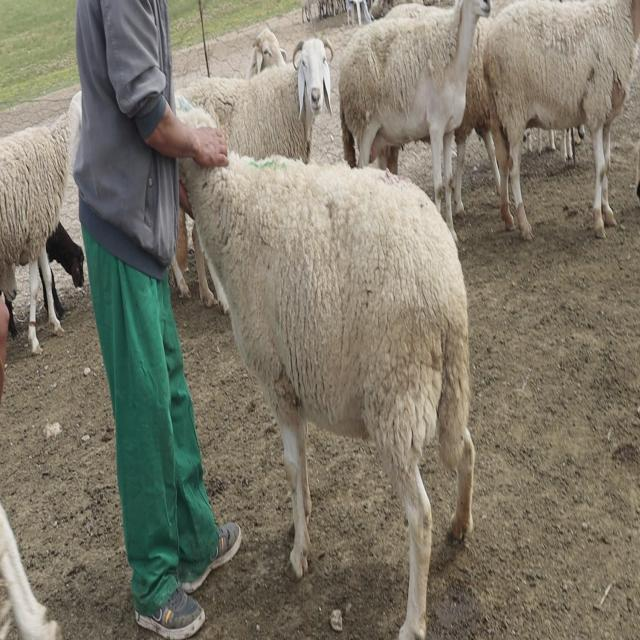Score_5: (180, 153, 475, 639)
